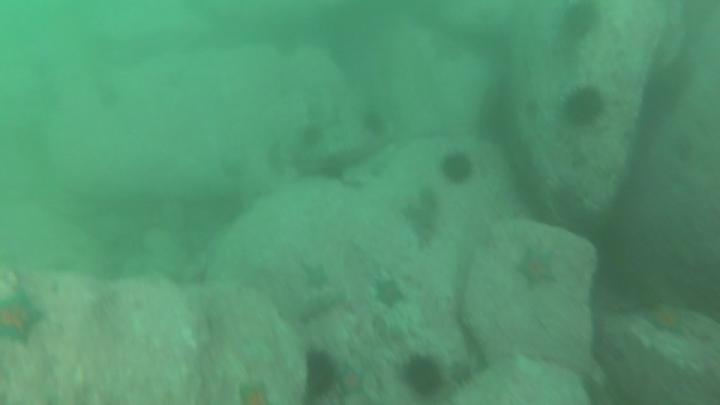echinus: (562, 83, 608, 133), (403, 353, 446, 399), (305, 350, 342, 400), (561, 1, 601, 41), (440, 150, 476, 187), (91, 80, 123, 111), (272, 33, 303, 60), (362, 109, 388, 139), (304, 122, 326, 151)
starfish: (1, 285, 47, 350), (514, 244, 562, 293), (641, 301, 693, 338), (371, 275, 409, 312), (300, 260, 334, 297), (337, 361, 366, 400), (447, 360, 478, 389), (237, 381, 274, 405)
